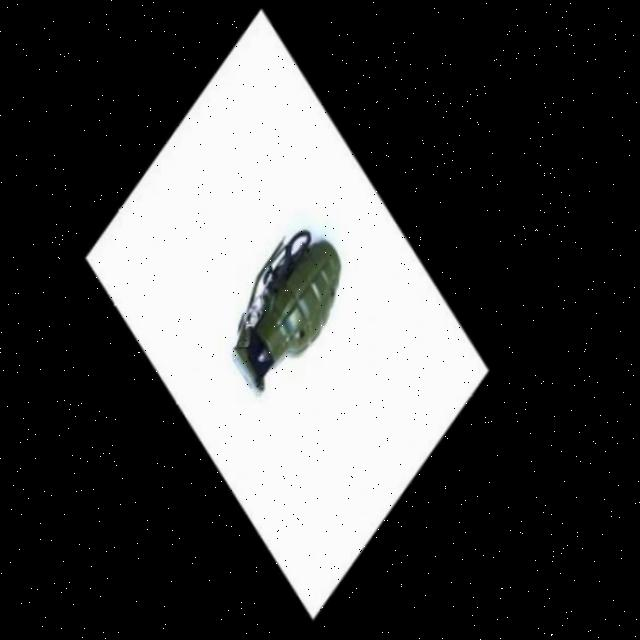grenade: (219, 217, 374, 411)
